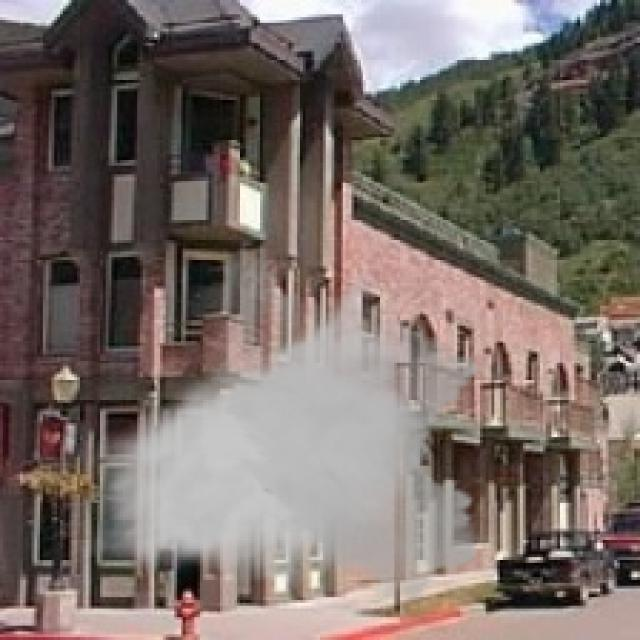Smoke: (74, 237, 489, 617)
